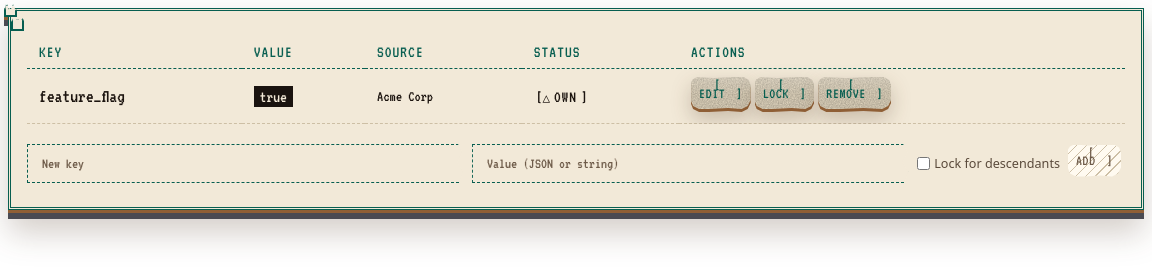
Test: ConfigEditor remove › asks for confirmation and does not remove on the first click
This screenshot has width=1152, height=268.
Check: the text "feature_flag" is shown, box [27,68,242,124]
Click the button "Remove".
click(855, 93)  # box [818,77,891,109]
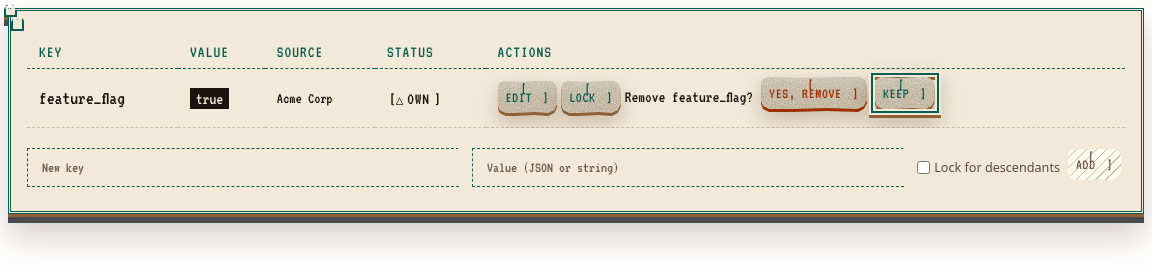
Check: the text "Remove feature_flag?" is shown, box [625,88,753,104]
